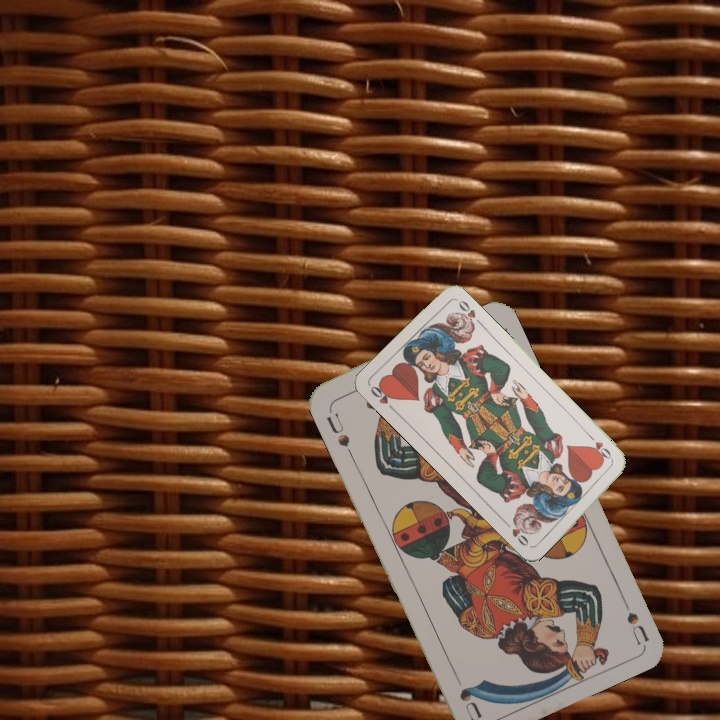HO: (366, 380, 399, 414), (585, 431, 616, 464)
SU: (615, 588, 651, 646), (322, 409, 353, 450)
